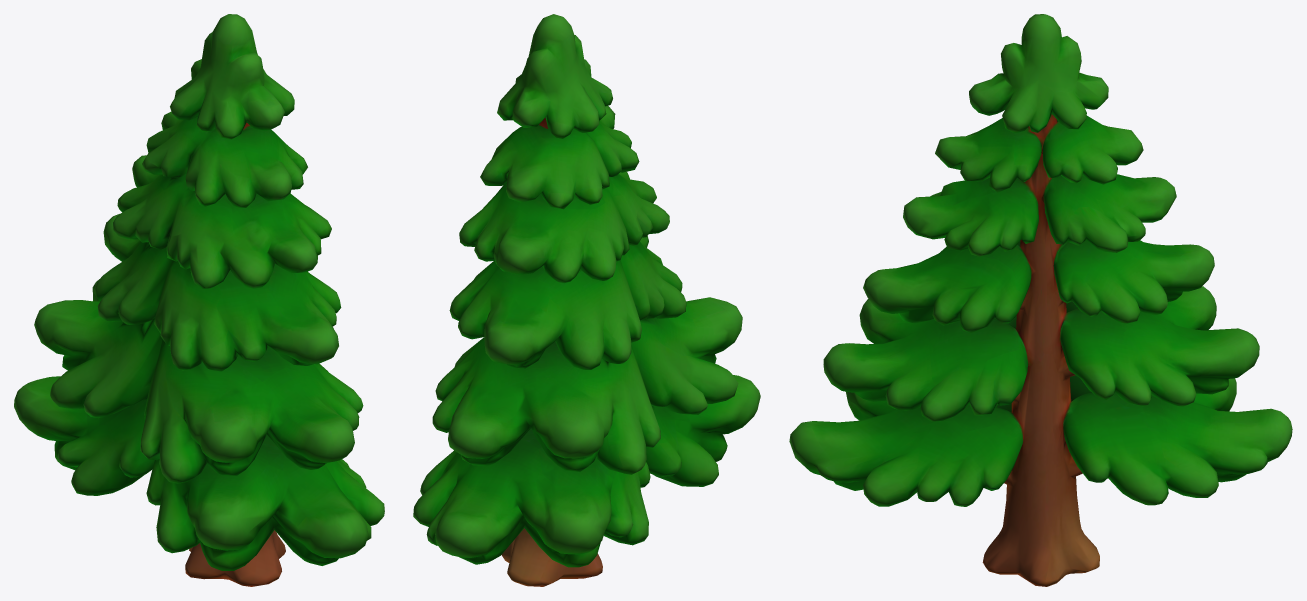
File: pine.glb
The picture shows the model from 3 angles, left to right: view 1: azimuth 30°, elevation 25°; view 2: azimuth 150°, elevation 25°; view 3: azimuth 270°, elevation 25°; orthographic projection.
Visible parts, largest first — view 1: tripo_node_0dd54720-062d-4265-a916-a4fb3e9b675e; view 2: tripo_node_0dd54720-062d-4265-a916-a4fb3e9b675e; view 3: tripo_node_0dd54720-062d-4265-a916-a4fb3e9b675e.
Part boxes in pixels (box(x1,y1,x2,y2)): tripo_node_0dd54720-062d-4265-a916-a4fb3e9b675e: box(14, 14, 384, 586); tripo_node_0dd54720-062d-4265-a916-a4fb3e9b675e: box(413, 14, 760, 586); tripo_node_0dd54720-062d-4265-a916-a4fb3e9b675e: box(789, 14, 1292, 586).
Size of the model in its own units: 0.4891 by 1.2 by 0.9956.
1 material, 1 textured.
